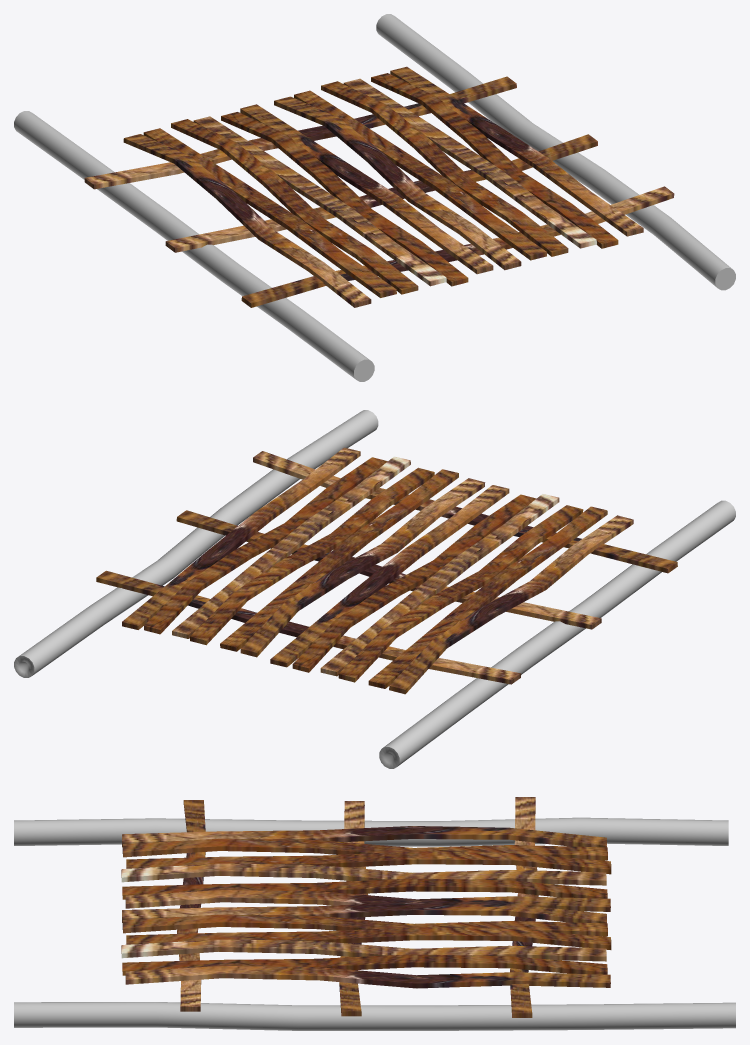
Rendered from Pont.FBX.
The picture shows the model from 3 angles, top to bottom: view 1: azimuth 30°, elevation 25°; view 2: azimuth 150°, elevation 25°; view 3: azimuth 270°, elevation 25°; orthographic projection. The views are drawn at different scales.
Parts seen in each view (by area): view 1: Cylinder006, Cylinder005, Box004, Box014, Box005, Box013, Box001, Box010, Box012, Box006, Box009, Box003 (+5 smaller); view 2: Cylinder005, Cylinder006, Box004, Box014, Box013, Box005, Box012, Box006, Box010, Box001, Box002, Box011 (+5 smaller); view 3: Cylinder005, Cylinder006, Box006, Box009, Box003, Box014, Box004, Box005, Box013, Box001, Box002, Box010 (+5 smaller).
Boxes of the visible parts, x1,y1,x2,y2 form: Cylinder006: (14, 111, 374, 381); Cylinder005: (376, 14, 735, 290); Box004: (274, 96, 521, 270); Box014: (123, 134, 371, 307); Box005: (321, 81, 568, 256); Box013: (171, 119, 418, 294); Box001: (371, 73, 618, 248); Box010: (221, 112, 468, 286); Box012: (240, 104, 493, 274); Box006: (390, 66, 643, 236); Box009: (193, 116, 446, 286); Box003: (343, 78, 596, 248); Cylinder005: (14, 410, 378, 677); Cylinder006: (379, 500, 735, 768); Box004: (240, 478, 485, 657); Box014: (389, 515, 633, 694); Box013: (338, 505, 583, 682); Box005: (190, 467, 434, 645); Box012: (270, 485, 509, 667); Box006: (122, 447, 360, 629); Box010: (292, 494, 536, 672); Box001: (144, 457, 387, 634); Box002: (220, 469, 458, 651); Box011: (368, 506, 607, 688); Cylinder005: (14, 1002, 735, 1030); Cylinder006: (14, 817, 728, 846); Box006: (125, 966, 610, 988); Box009: (121, 863, 606, 885); Box003: (121, 939, 606, 961); Box014: (122, 826, 606, 847); Box004: (122, 902, 606, 923); Box005: (126, 927, 611, 949); Box013: (126, 851, 611, 874); Box001: (122, 954, 607, 975); Box002: (122, 914, 607, 936); Box010: (122, 878, 607, 899).
Size of the model in its own units: 236 by 21.35 by 332.
